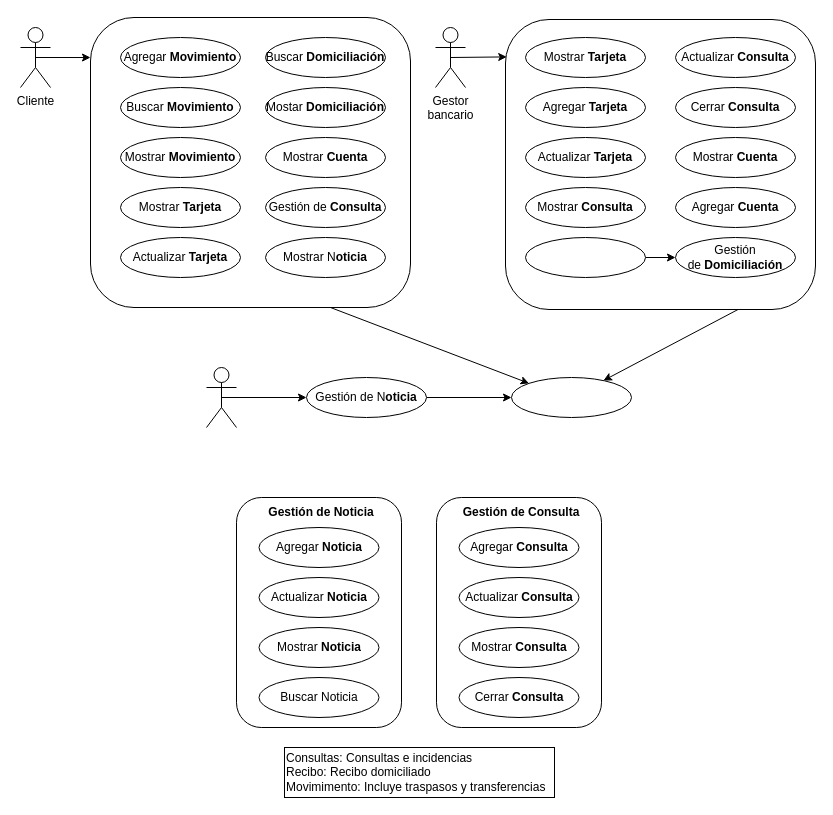
This 833x815 diagram has some shape labels left out. Here are the shapes that lost their labels. From the top down, the box of each, then its label:
(524, 236, 646, 278): Actualizar Cuenta
(206, 366, 236, 428): Encargado de Com.
(510, 376, 632, 418): Autenticación Usuario
